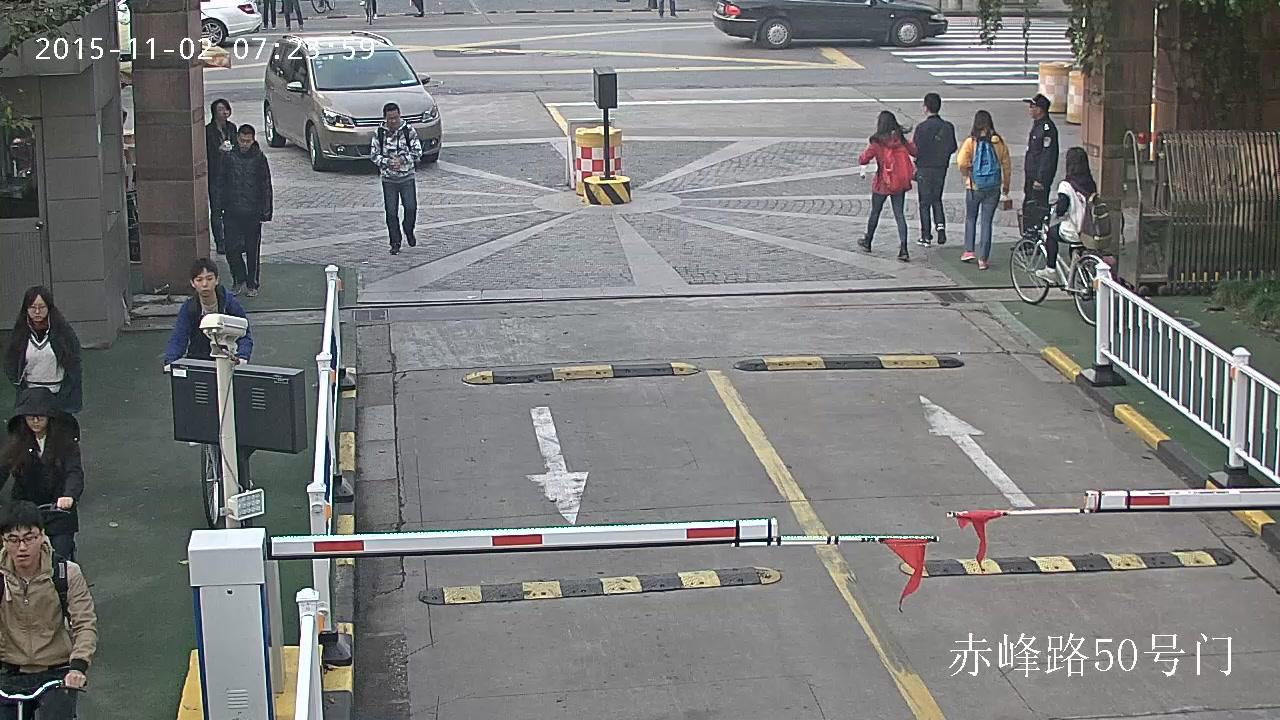person: (159, 257, 254, 523), (0, 497, 99, 720), (0, 499, 98, 720), (1010, 146, 1112, 325), (0, 385, 84, 562), (0, 386, 84, 558), (1036, 147, 1112, 289), (3, 285, 81, 416), (160, 258, 253, 367), (215, 124, 272, 296), (857, 110, 917, 259), (957, 110, 1010, 269), (369, 102, 422, 255), (912, 93, 956, 247), (1020, 94, 1058, 256), (204, 98, 240, 254), (283, 0, 303, 31), (261, 0, 276, 30)
